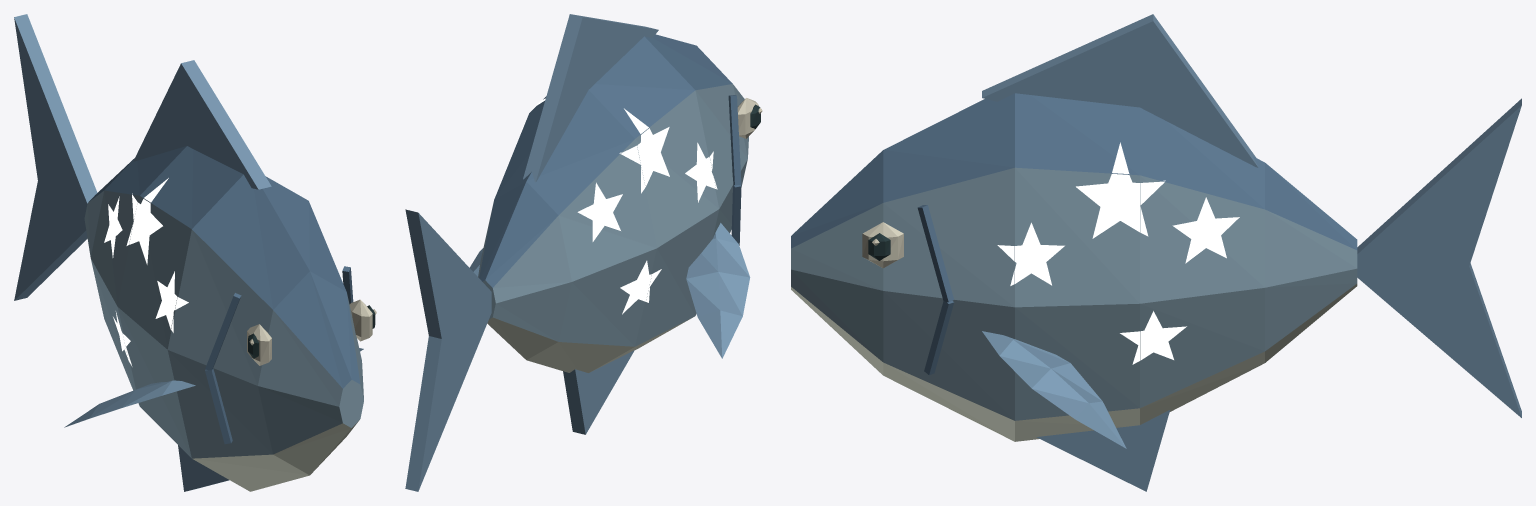
File: fish_winterstar.glb
3 renders of one model, left to right at view 1: azimuth 30°, elevation 25°; view 2: azimuth 150°, elevation 25°; view 3: azimuth 270°, elevation 25°, orthographic. The views are drawn at different scales.
Parts seen in each view (by area): view 1: fish, glow; view 2: fish, glow; view 3: fish, glow.
Boxes of the visible parts, x1,y1,x2,y2 form: fish: (14, 14, 376, 491); glow: (104, 178, 188, 366); fish: (405, 14, 762, 491); glow: (508, 98, 717, 314); fish: (791, 14, 1521, 491); glow: (997, 142, 1239, 364).
Size of the model in its own units: 0.2904 by 0.434 by 0.6105.
